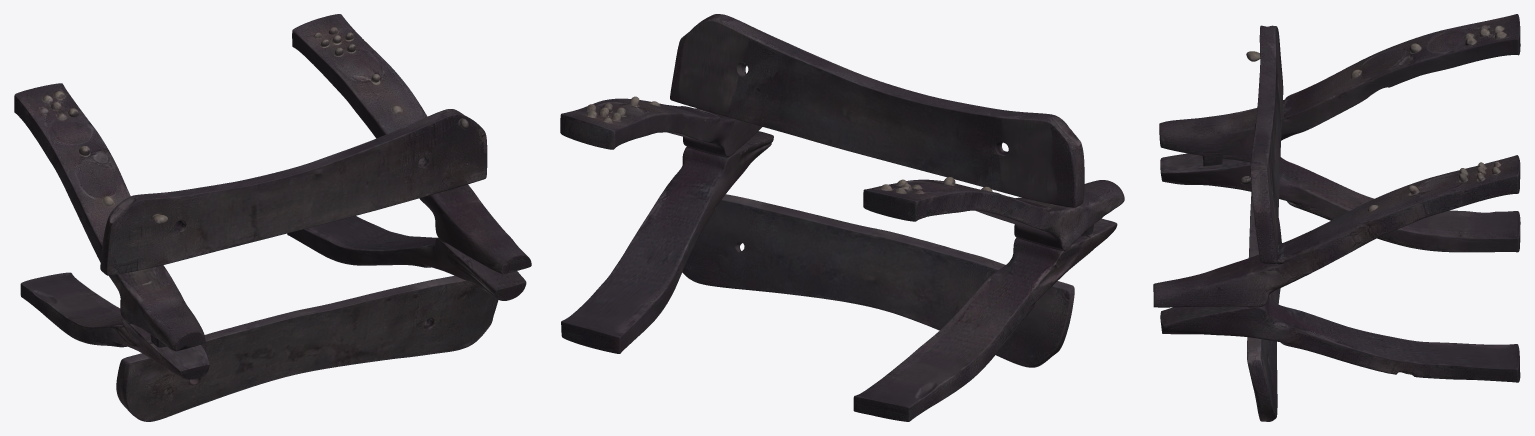
Rendered from samar.glb.
The picture shows the model from 3 angles, left to right: view 1: azimuth 30°, elevation 25°; view 2: azimuth 150°, elevation 25°; view 3: azimuth 270°, elevation 25°; orthographic projection. The views are drawn at different scales.
Bounding box in the file's own units: 1.9 × 1.14 × 1.53.
Materials: 1 (1 with a texture image).
